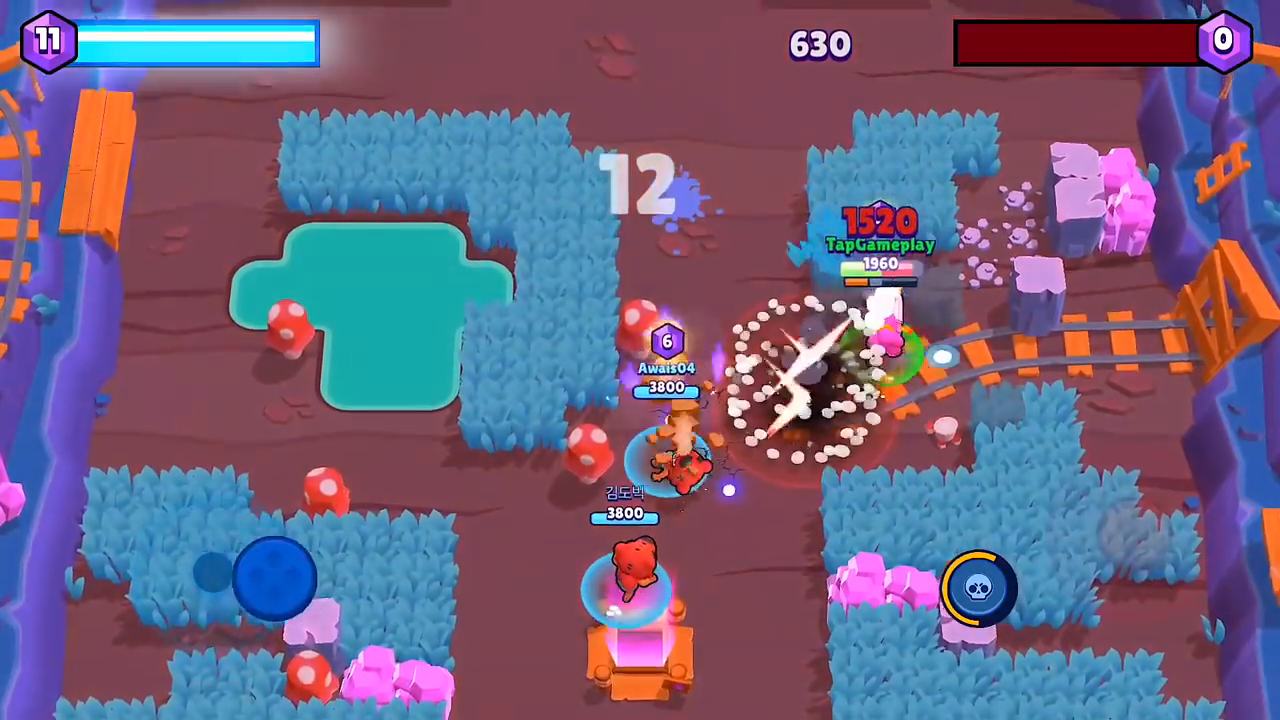move_stick: (232, 531, 333, 612)
red: (839, 203, 920, 345)
